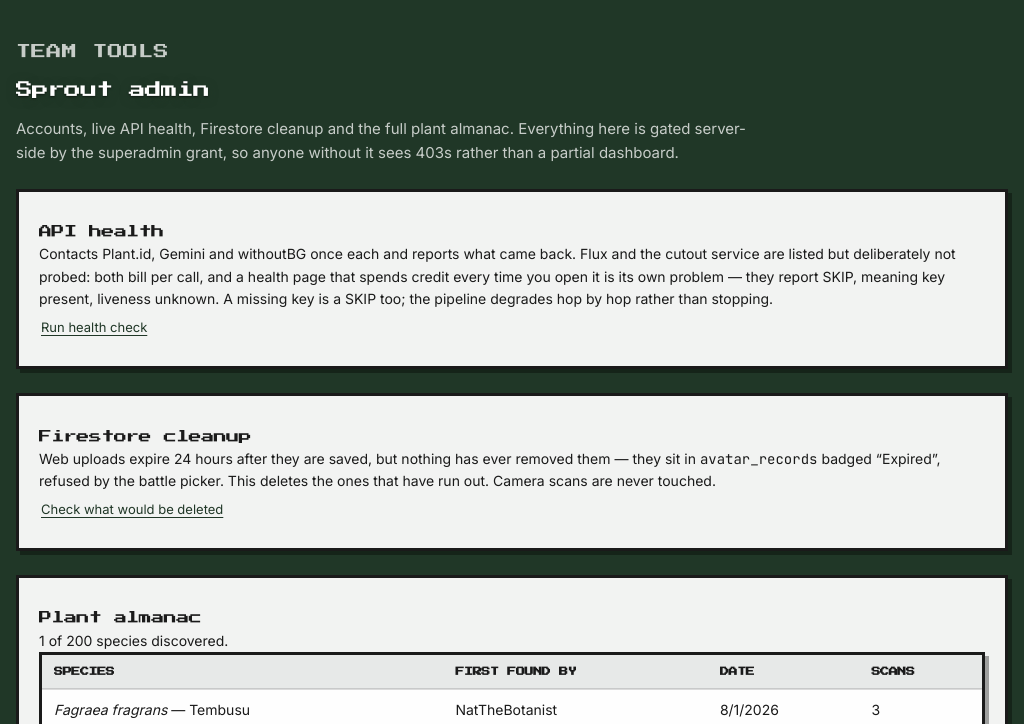
it: AdminPage operations panels › deletes only after the second, explicit press
Click the button "Check what would be deleted". click: (132, 510)
box: [39,492,225,528]
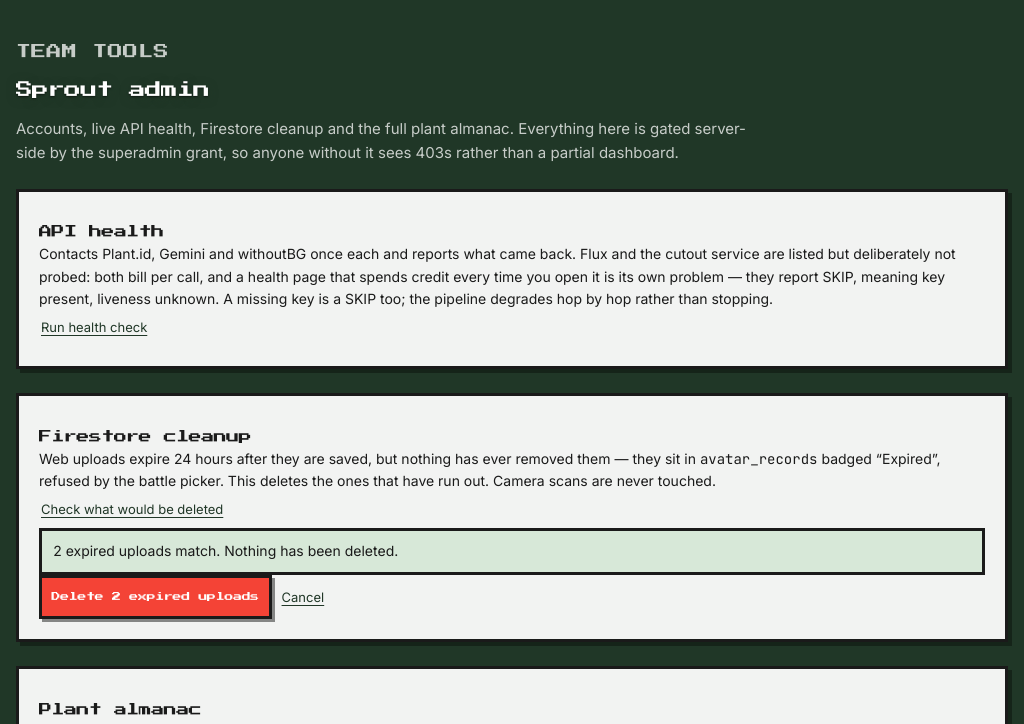
Click the button "Delete 2 expired uploads". click: (155, 598)
box: [39,576,272,620]
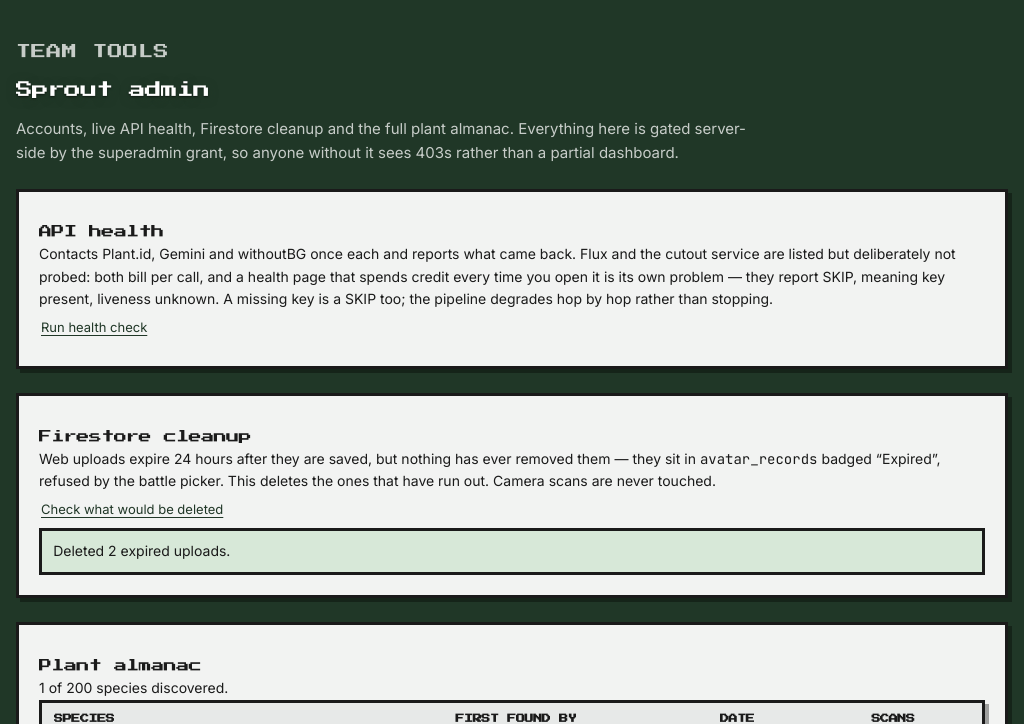
Check: the text "Deleted 2 expired uploads." is shown, box [39,528,985,576]
